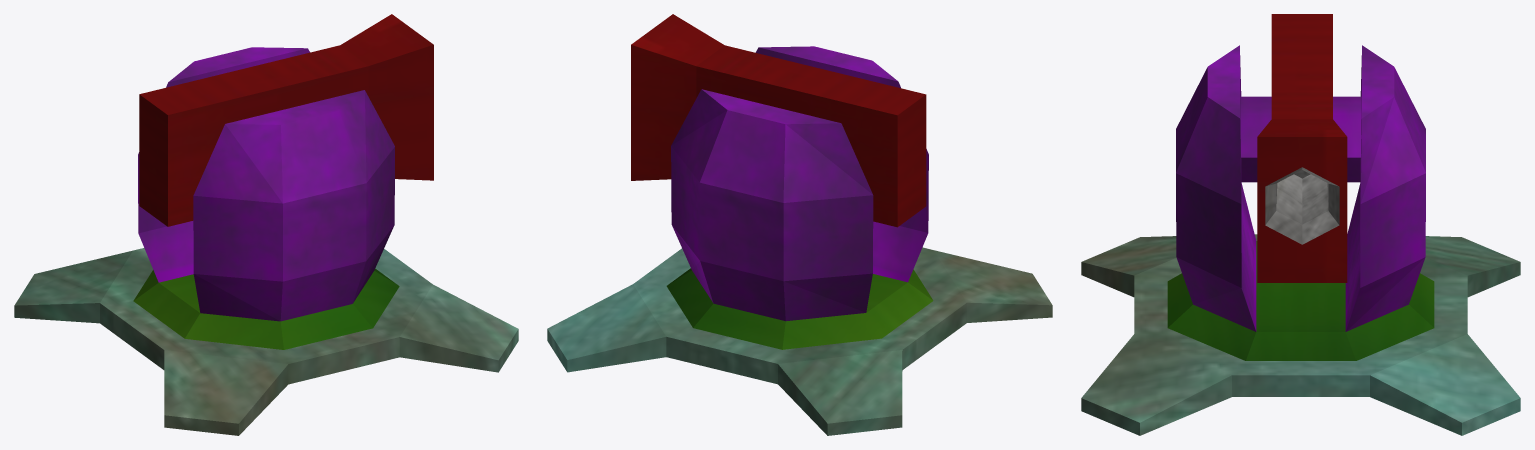
Rendered from TorreTinta3.fbx.
3 views of the same model, side by side, from view 1: azimuth 30°, elevation 25°; view 2: azimuth 150°, elevation 25°; view 3: azimuth 270°, elevation 25° (orthographic). The views are drawn at different scales.
Visible parts, largest first — view 1: Torre, Base; view 2: Torre, Base; view 3: Torre, Base.
Boxes of the visible parts, x1,y1,x2,y2 form: Torre: [133, 14, 433, 349]; Base: [14, 248, 518, 435]; Torre: [631, 14, 933, 349]; Base: [547, 247, 1052, 435]; Torre: [1167, 14, 1434, 360]; Base: [1081, 234, 1520, 435].
Bounding box in the file's own units: 574 × 409 × 574.
